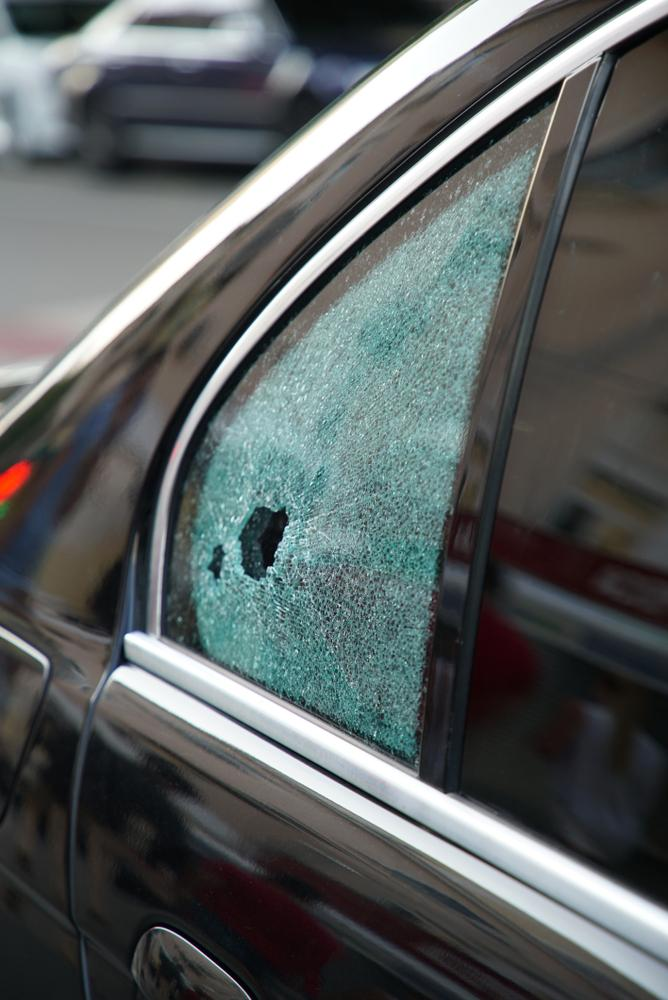glass shatter: (162, 91, 560, 770)
